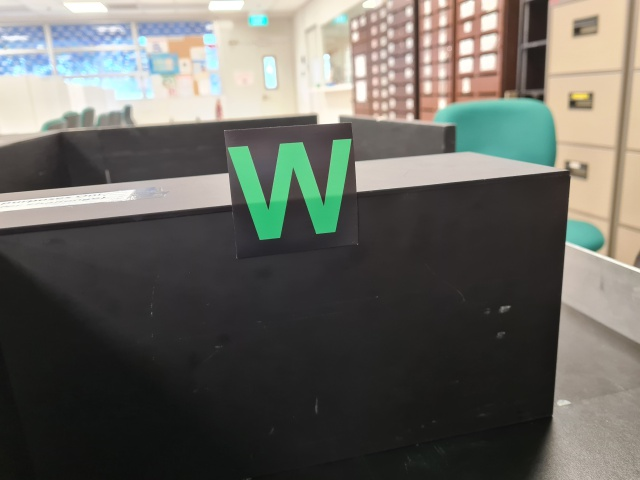alphabet_w: (225, 122, 359, 257)
